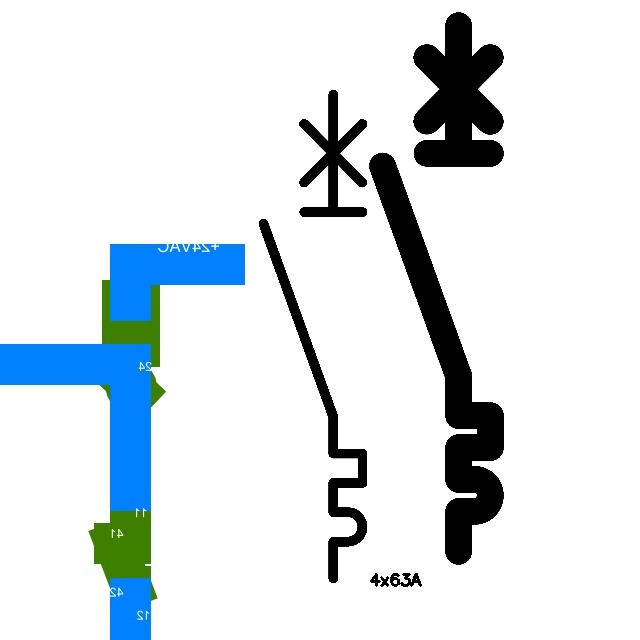interruptor_termomagnetico: (369, 12, 504, 565), (251, 82, 375, 591)
